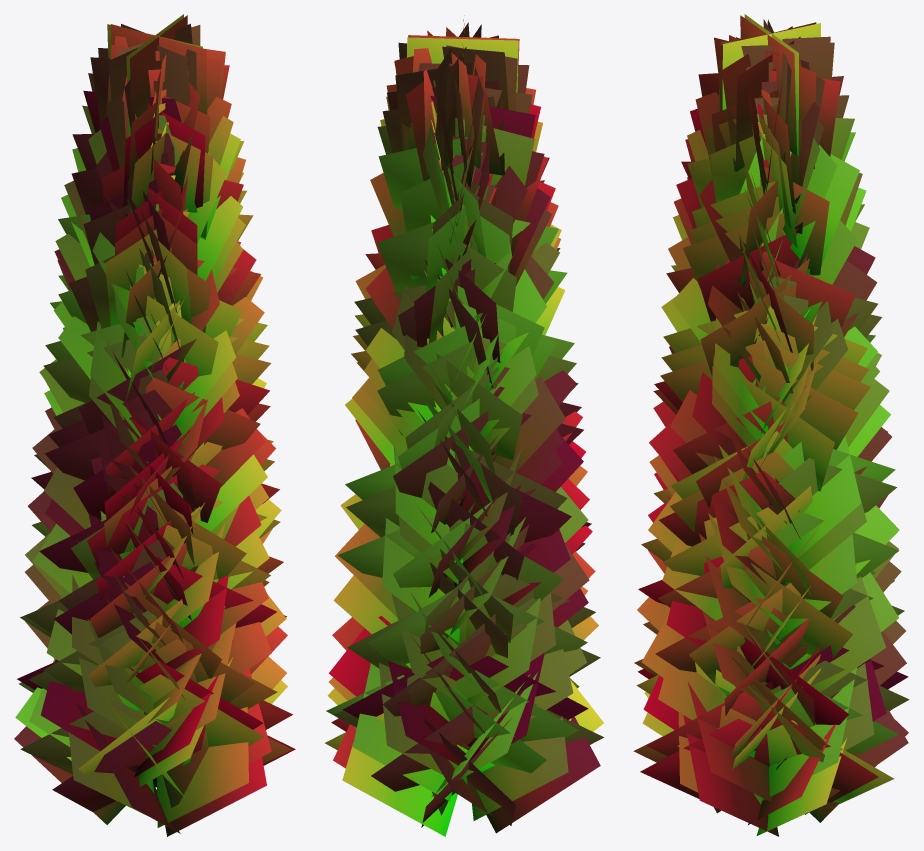
File: URP_P4_Tree_8_LOD_0.fbx
3 views of the same model, side by side, from view 1: azimuth 30°, elevation 25°; view 2: azimuth 150°, elevation 25°; view 3: azimuth 270°, elevation 25° (orthographic).
Visible parts, largest first — view 1: Tree_8_LOD_0; view 2: Tree_8_LOD_0; view 3: Tree_8_LOD_0.
Part boxes in pixels (x1=…): Tree_8_LOD_0: x1=14, y1=14, x2=295, y2=836; Tree_8_LOD_0: x1=325, y1=15, x2=603, y2=836; Tree_8_LOD_0: x1=633, y1=14, x2=909, y2=836.
Bounding box in the file's own units: 210 × 656 × 210.
